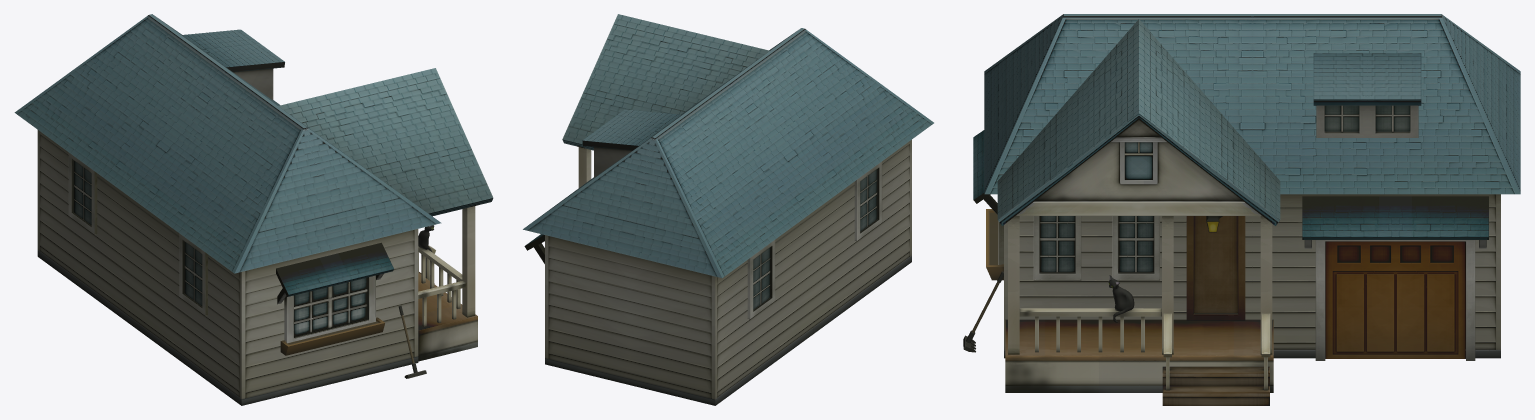
Rendered from House.fbx.
3 views of the same model, side by side, from view 1: azimuth 30°, elevation 25°; view 2: azimuth 150°, elevation 25°; view 3: azimuth 270°, elevation 25° (orthographic). The views are drawn at different scales.
Parts seen in each view (by area): view 1: House; view 2: House; view 3: House.
Boxes of the visible parts, left/top/right/bottom form: House: left=14, top=14, right=493, bottom=405; House: left=523, top=14, right=933, bottom=405; House: left=963, top=14, right=1520, bottom=405.
Bounding box in the file's own units: 201 × 166 × 289.
